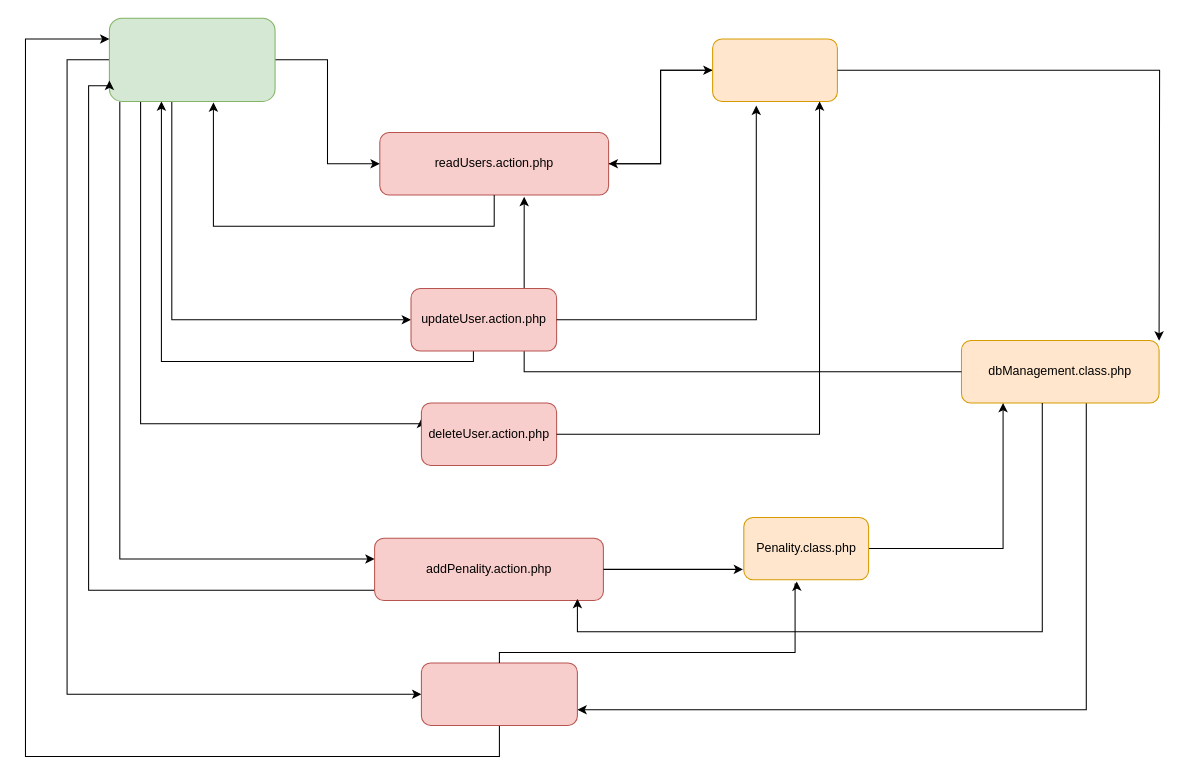
This 1187x783 diagram has some shape labels left out. The centre of each missing label's shape, as x and y in pixels:
addDelay.action.php: point (498, 693)
index: point (191, 59)
User.class.php: point (774, 69)
